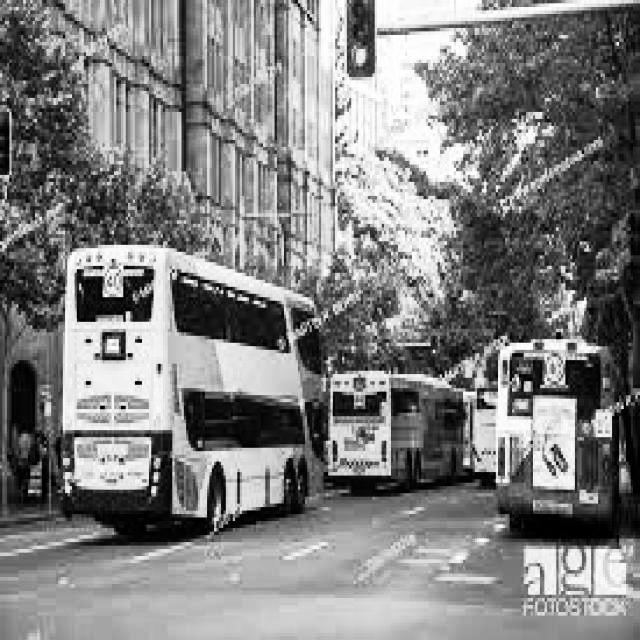Bus: (54, 229, 339, 523), (486, 317, 634, 560), (331, 341, 469, 499)
